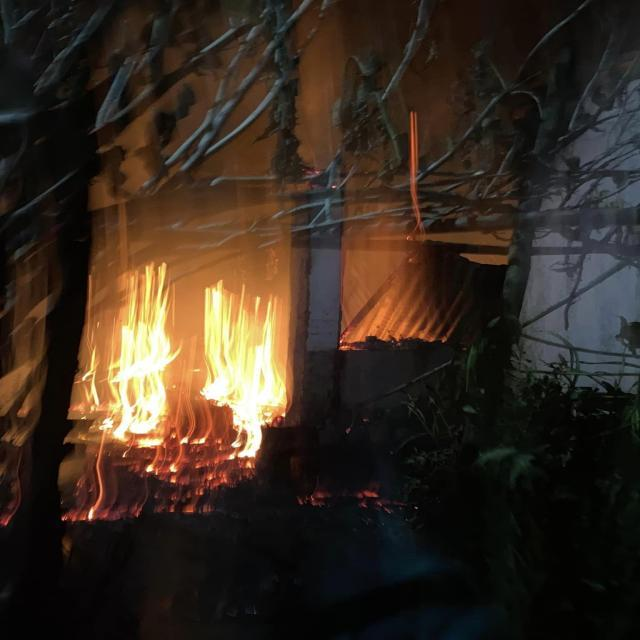Fire: (94, 272, 288, 461)
